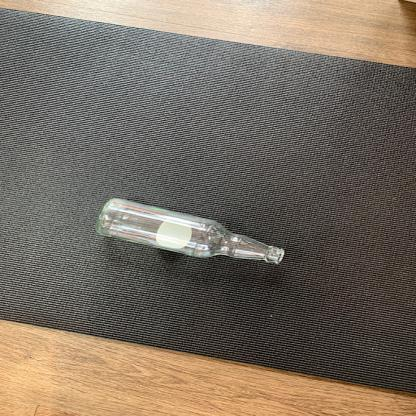trash: (93, 197, 288, 268)
